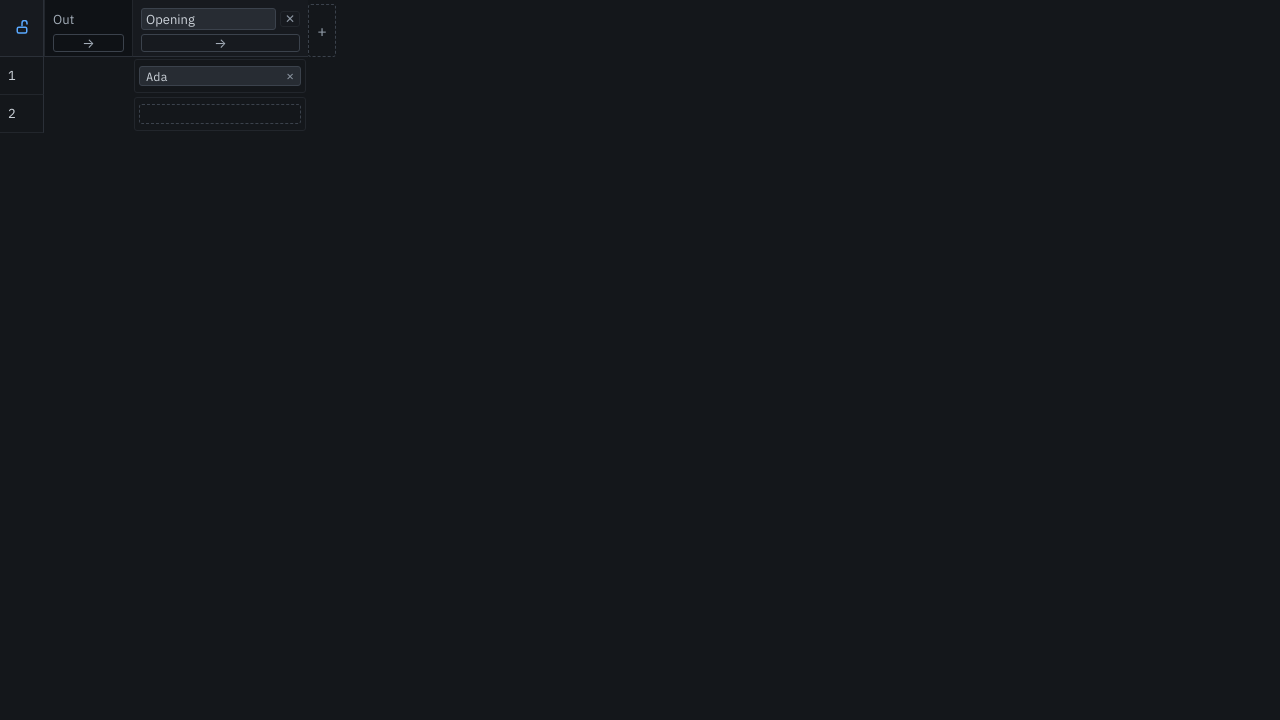
ScenesView › has no second box once a row holds something, and the name it holds is the way in
Click the button "Ada" at (212, 76), box 146,67 -> 278,85
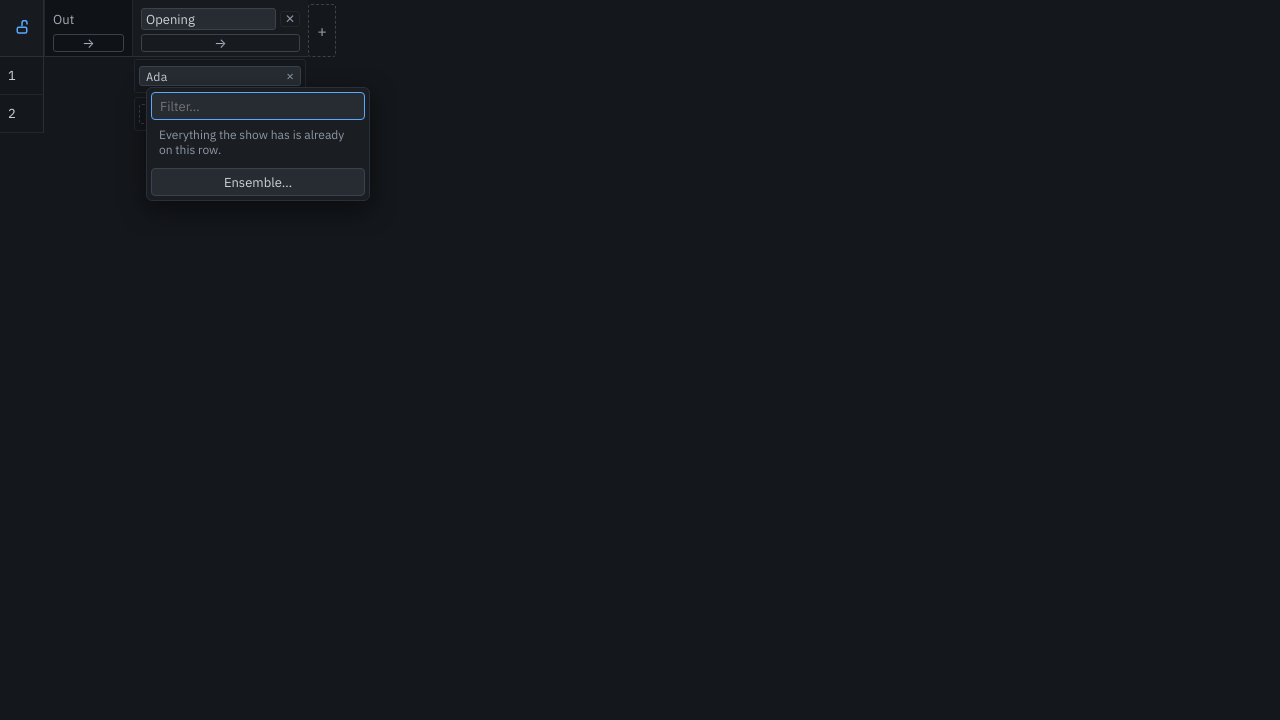
Check: the button "Ensemble…" is shown
Click the button "Ensemble…" at (258, 182), box 151,168 -> 365,196
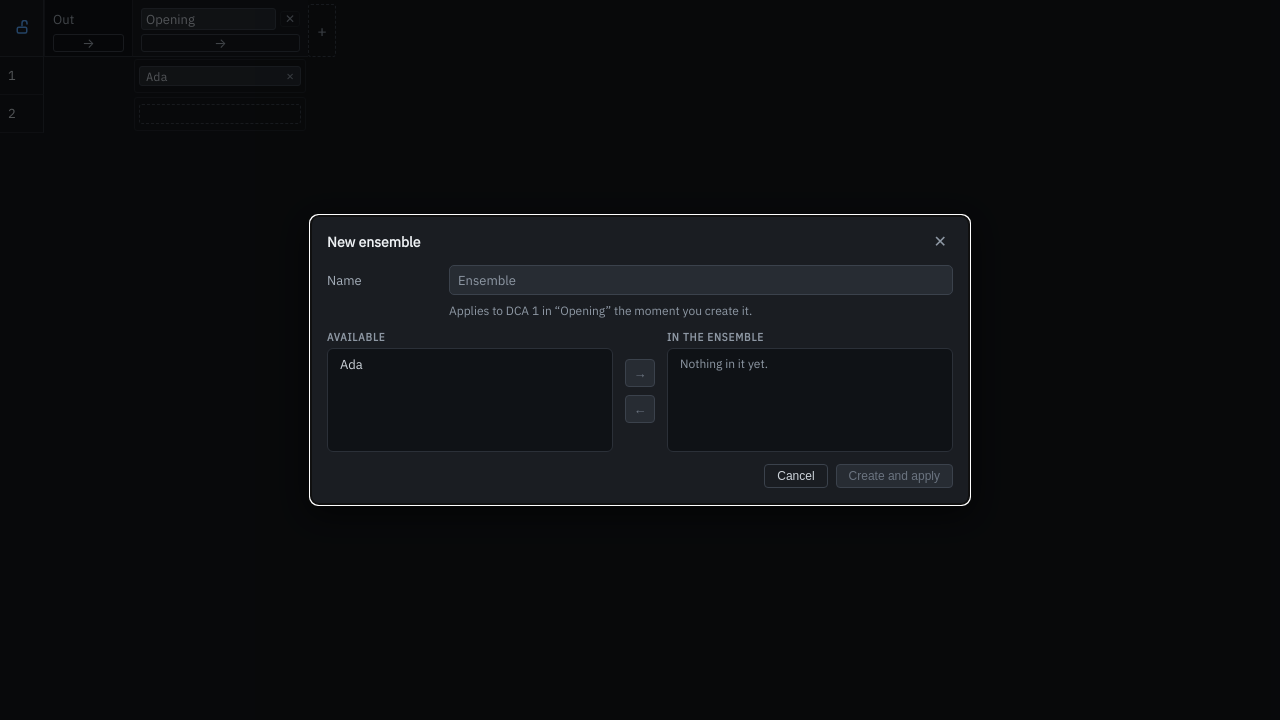
Check: the dialog is gone
Check: the dialog with class "ensemble-dialog" is shown, box 310,215 -> 970,505
